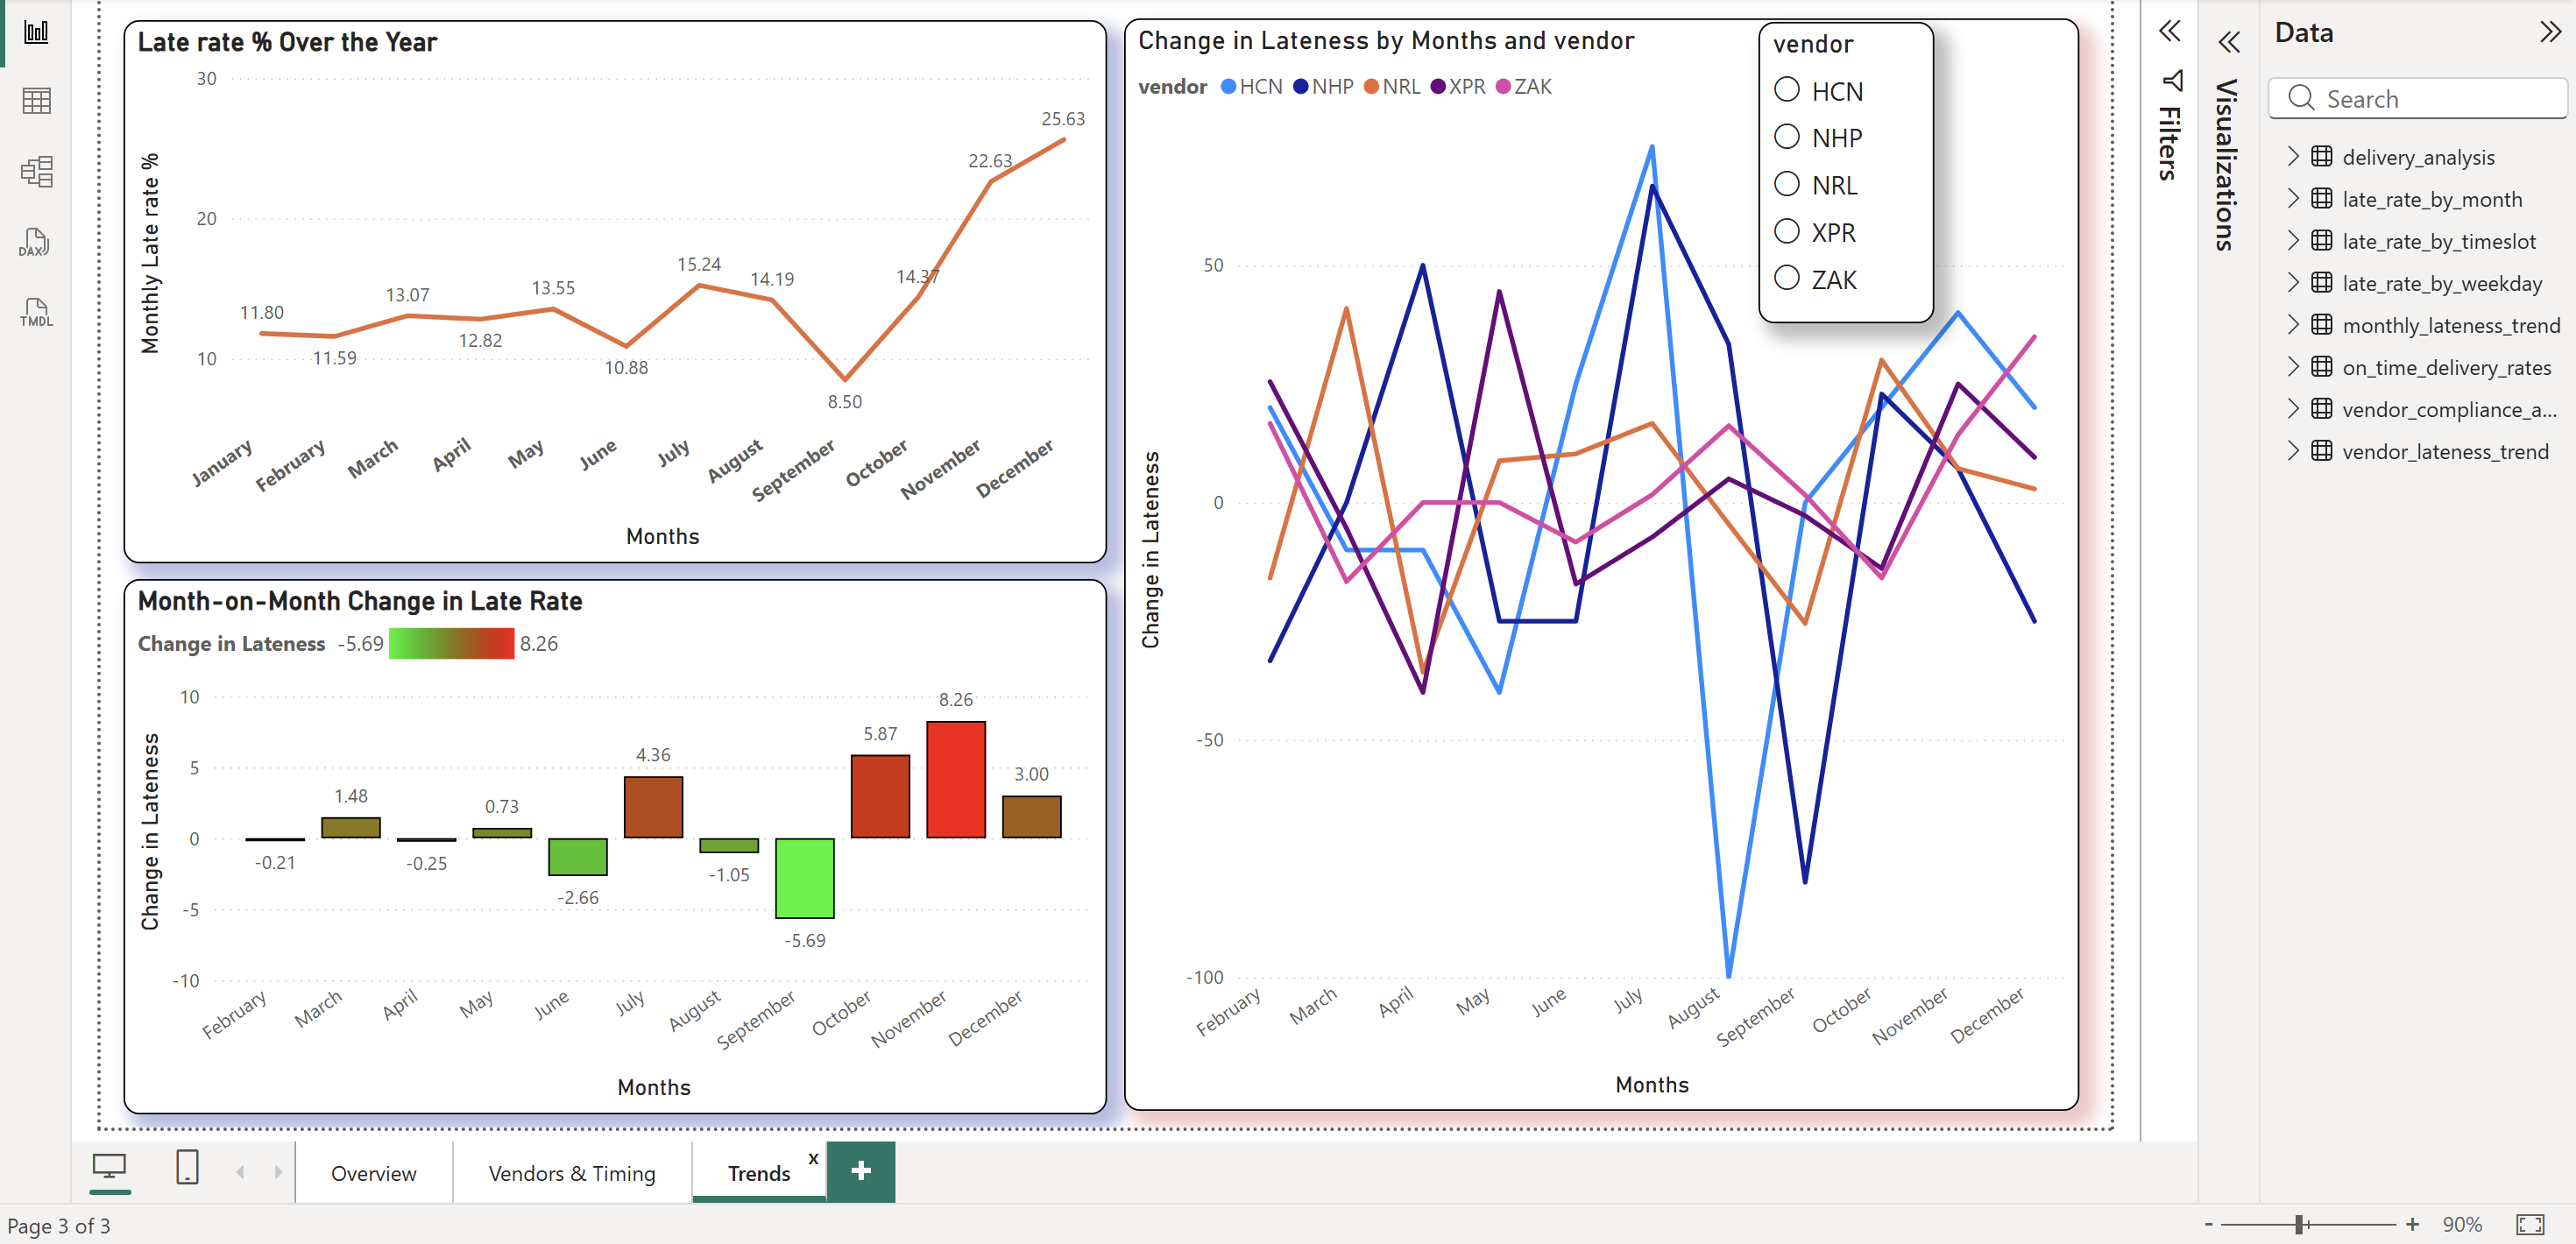

This screenshot's page, from the dashboard's own definition file:
{"tool":"powerbi","page":{"name":"Trends","canvas":[1280,720],"ordinal":2},"visuals":[{"type":"lineChart","title":"Late rate % Over the Year","fields":{"Category":["late_rate_by_month.month_name"],"Y":["Sum(late_rate_by_month.monthly_late_rate)"]},"box":[14.1,14.1,626.5,345.9],"z":0},{"type":"columnChart","title":"Month-on-Month Change in Late Rate","fields":{"Category":["monthly_lateness_trend.month_name"],"Y":["Sum(monthly_lateness_trend.monthly_change)"]},"box":[14.1,370.3,626.5,340.8],"z":1000},{"type":"lineChart","fields":{"Category":["vendor_lateness_trend.month_name"],"Series":["vendor_lateness_trend.vendor"],"Y":["Avg(vendor_lateness_trend.monthly_change)"]},"box":[651.6,13.9,608.4,696.2],"z":2000},{"type":"listSlicer","fields":{"Values":["vendor_lateness_trend.vendor"]},"box":[1056,16,112,192],"z":2001}]}

Visuals, with their boxes on the page's 1280x720 design canvas (x1, y1, x2, y2). These are canvas units, not pixel positions in the 2576x1244 screenshot, which may show the page scaled, cropped or inside an application window:
"Late rate % Over the Year" lineChart: x1=14 y1=14 x2=641 y2=360
"Month-on-Month Change in Late Rate" columnChart: x1=14 y1=370 x2=641 y2=711
lineChart - vendor_lateness_trend.month_name x vendor_lateness_trend.vendor: x1=652 y1=14 x2=1260 y2=710
listSlicer - vendor_lateness_trend.vendor: x1=1056 y1=16 x2=1168 y2=208
